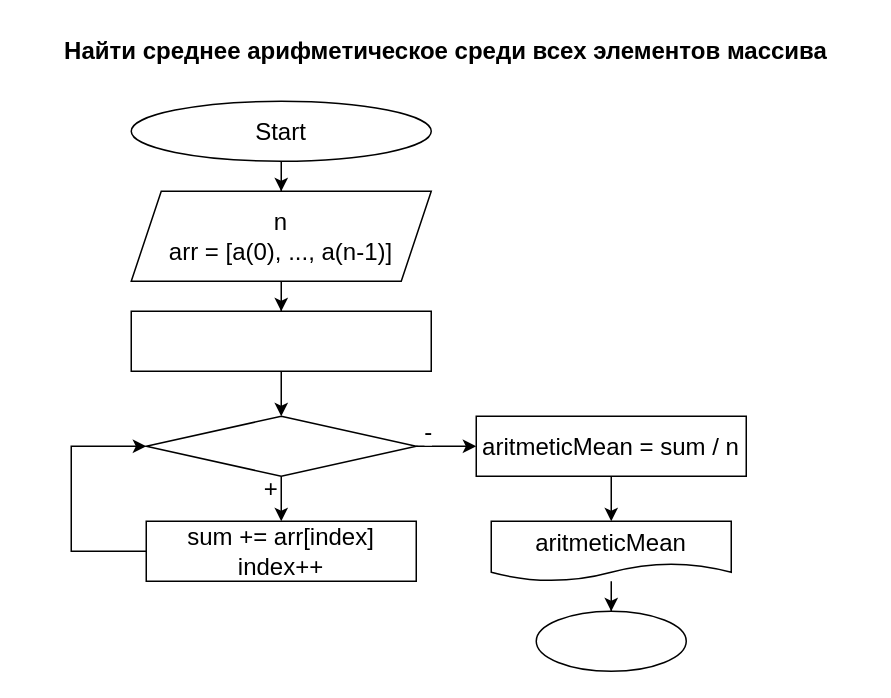
This 891x698 diagram has some shape labels left out. The box of each missing label's shape, as (x1, y1, x2, y2) in pixels:
End: (535, 610, 686, 671)
index < n: (145, 415, 416, 476)
index = 0 sum = 0: (130, 310, 431, 371)
